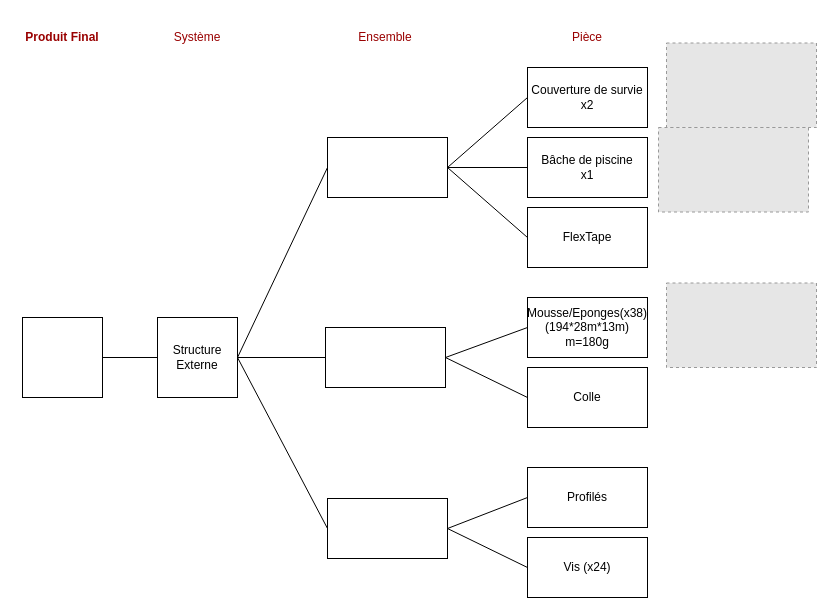
Image size: 834x615. Some labels were removed from this diagram. Grey dashed boxes stand in for pictures. Here are the shapes that lost their labels. From the top down, the box of each, then its label:
(326, 136, 448, 198): Membranes
(22, 316, 102, 398): ROVER
(324, 326, 446, 388): Bob
(326, 498, 448, 558): Coque
